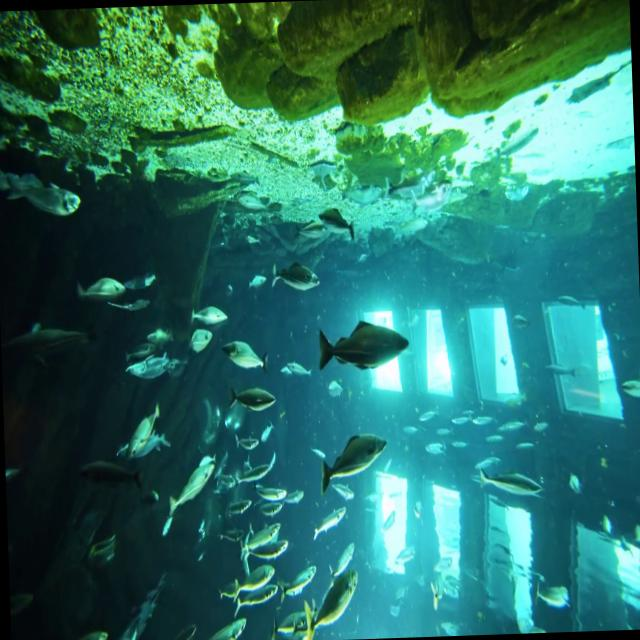fish: (315, 313, 414, 385), (312, 414, 391, 501), (160, 440, 222, 534), (470, 456, 546, 512), (299, 570, 359, 640), (264, 256, 326, 307), (310, 198, 356, 252), (230, 555, 280, 603), (232, 518, 286, 562), (278, 555, 324, 606), (530, 568, 572, 622), (126, 400, 166, 455), (228, 382, 284, 419), (126, 346, 174, 387), (74, 264, 124, 302), (224, 334, 270, 374), (233, 453, 273, 498), (280, 347, 316, 397), (311, 500, 353, 541), (254, 478, 298, 512), (197, 611, 247, 640), (326, 531, 356, 579), (122, 265, 158, 303), (184, 304, 236, 329), (185, 324, 218, 363), (227, 442, 263, 466)
